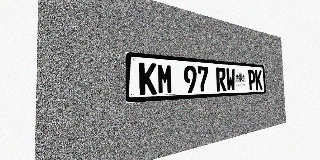7: (197, 66, 209, 92)
9: (184, 65, 197, 93)
K: (139, 62, 157, 95), (255, 70, 262, 90)
M: (157, 63, 173, 94)
P: (248, 69, 256, 90)
R: (216, 67, 226, 92)
W: (226, 68, 236, 91)
